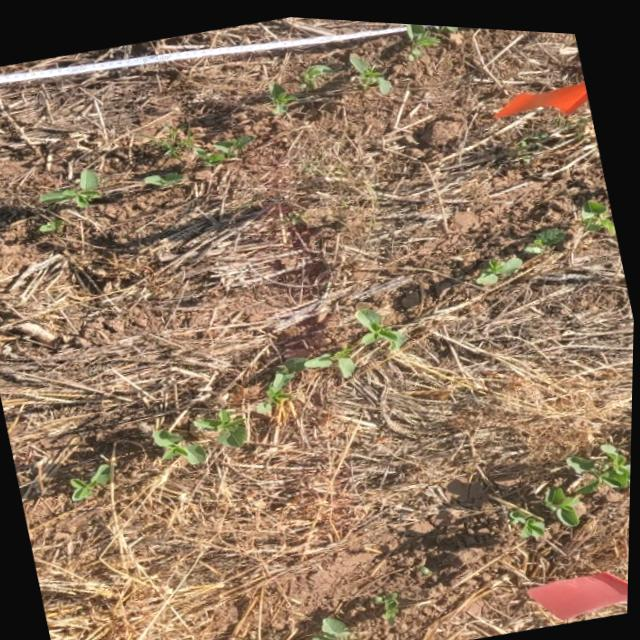grassy_weed: (509, 119, 575, 157), (146, 121, 202, 156)
soy_plant: (546, 434, 633, 517), (253, 341, 356, 408), (152, 402, 248, 460), (39, 168, 100, 205), (195, 130, 253, 163), (405, 19, 459, 54), (358, 305, 405, 342), (350, 48, 391, 88), (74, 460, 114, 497), (477, 247, 525, 276), (315, 612, 363, 640), (524, 218, 566, 246), (582, 191, 616, 225), (510, 499, 547, 530), (300, 59, 340, 85), (376, 586, 403, 617), (270, 79, 297, 108), (144, 168, 183, 183), (40, 219, 63, 229)
